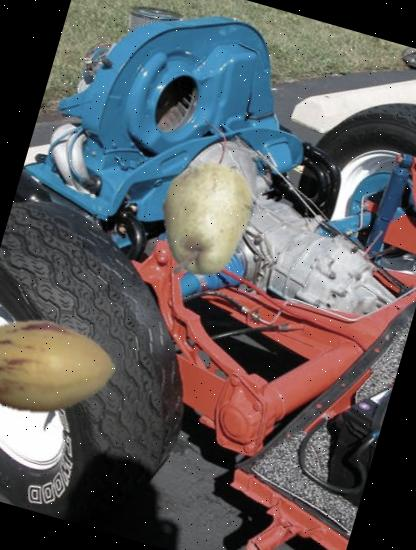Pear: (132, 146, 279, 293)
Pepino: (0, 278, 132, 454)
